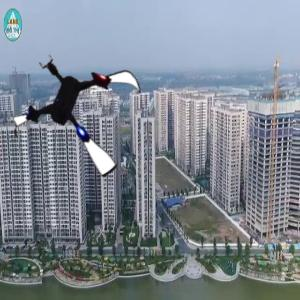drone: (12, 46, 151, 185)
